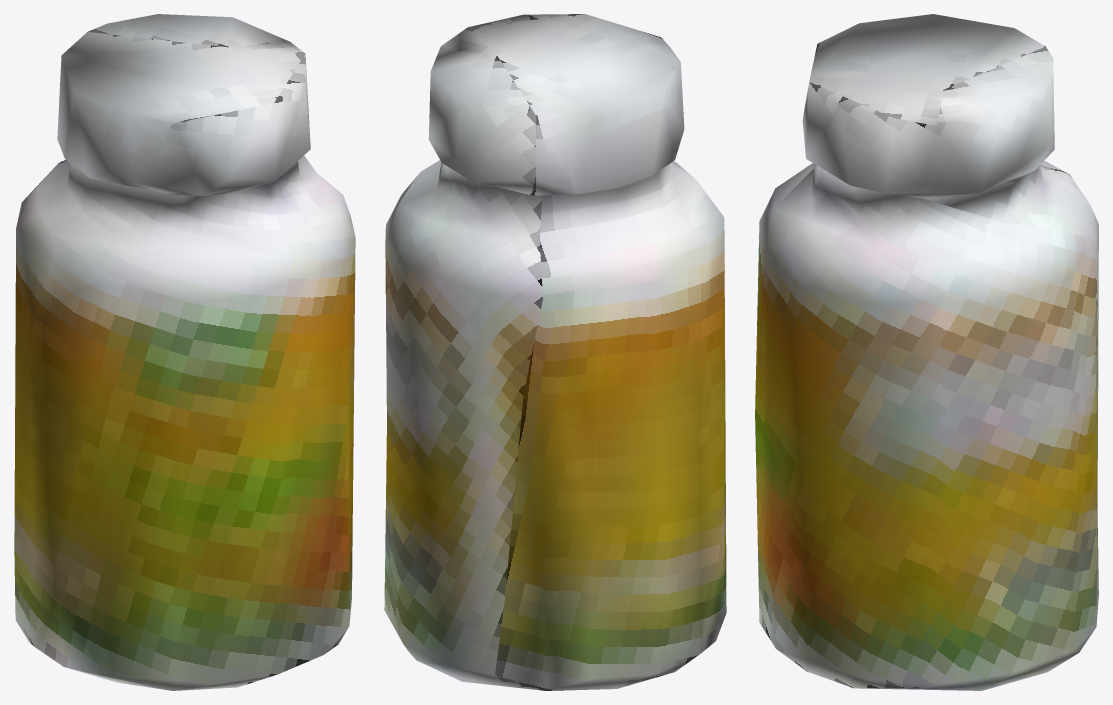
Rendered from Lutein-low.glb.
3 views of the same model, side by side, from view 1: azimuth 30°, elevation 25°; view 2: azimuth 150°, elevation 25°; view 3: azimuth 270°, elevation 25° (orthographic).
Visible parts, largest first — view 1: Lutein; view 2: Lutein; view 3: Lutein.
Part boxes in pixels (x1=…): Lutein: x1=14, y1=14, x2=355, y2=690; Lutein: x1=384, y1=14, x2=726, y2=690; Lutein: x1=755, y1=14, x2=1098, y2=690.
Size of the model in its own units: 0.0534 by 0.0968 by 0.0534.
Materials: 1 (1 with a texture image).
